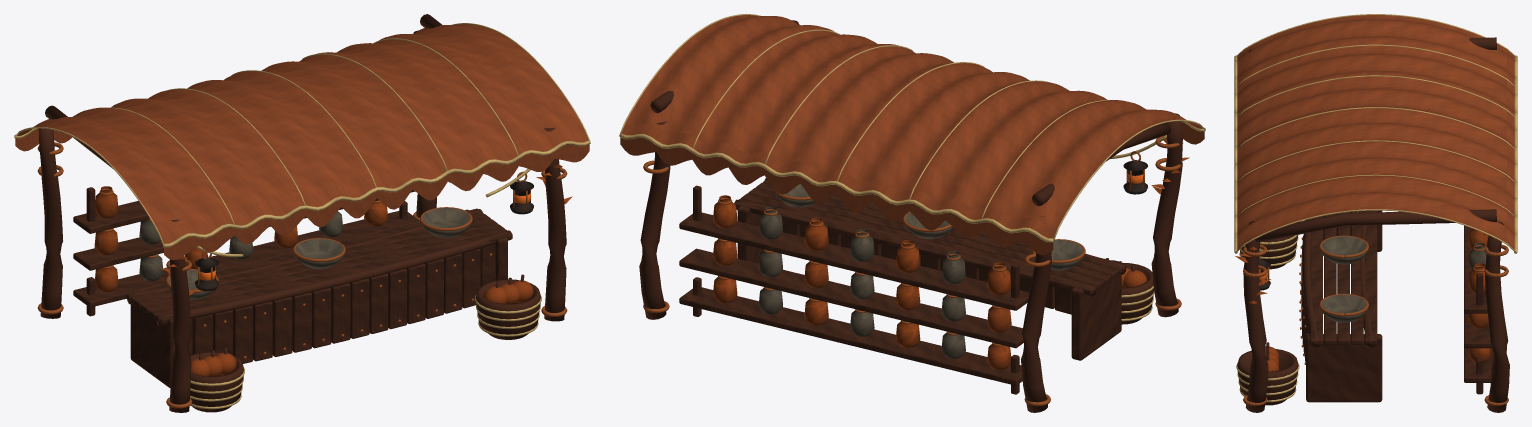
The model's file is Autumn_Shop.fbx.
3 views of the same model, side by side, from view 1: azimuth 30°, elevation 25°; view 2: azimuth 150°, elevation 25°; view 3: azimuth 270°, elevation 25° (orthographic). The views are drawn at different scales.
Parts seen in each view (by area): view 1: Autumn_Shop_Cloth, Autumn_Shop_Wood, Autumn_Shop_Ivory, Autumn_Shop_Accent, Autumn_Shop_Stone, Autumn_Shop_Metal, Autumn_Shop_Iron; view 2: Autumn_Shop_Cloth, Autumn_Shop_Wood, Autumn_Shop_Accent, Autumn_Shop_Stone, Autumn_Shop_Ivory, Autumn_Shop_Metal, Autumn_Shop_Iron; view 3: Autumn_Shop_Cloth, Autumn_Shop_Wood, Autumn_Shop_Ivory, Autumn_Shop_Stone, Autumn_Shop_Metal, Autumn_Shop_Accent.
Part boxes in pixels (left/top/right/bottom): Autumn_Shop_Cloth: left=15, top=24, right=589, bottom=260; Autumn_Shop_Wood: left=38, top=14, right=566, bottom=412; Autumn_Shop_Ivory: left=14, top=23, right=590, bottom=409; Autumn_Shop_Accent: left=94, top=164, right=572, bottom=376; Autumn_Shop_Stone: left=139, top=208, right=471, bottom=299; Autumn_Shop_Metal: left=37, top=142, right=567, bottom=408; Autumn_Shop_Iron: left=195, top=180, right=533, bottom=291; Autumn_Shop_Cloth: left=620, top=15, right=1204, bottom=255; Autumn_Shop_Wood: left=639, top=20, right=1182, bottom=412; Autumn_Shop_Accent: left=713, top=135, right=1189, bottom=369; Autumn_Shop_Stone: left=758, top=183, right=1084, bottom=358; Autumn_Shop_Ivory: left=619, top=14, right=1205, bottom=321; Autumn_Shop_Metal: left=643, top=136, right=1181, bottom=406; Autumn_Shop_Iron: left=1123, top=160, right=1147, bottom=194; Autumn_Shop_Cloth: left=1237, top=15, right=1514, bottom=249; Autumn_Shop_Wood: left=1237, top=37, right=1509, bottom=412; Autumn_Shop_Ivory: left=1234, top=14, right=1517, bottom=402; Autumn_Shop_Stone: left=1320, top=228, right=1486, bottom=322; Autumn_Shop_Metal: left=1243, top=229, right=1508, bottom=406; Autumn_Shop_Accent: left=1235, top=228, right=1491, bottom=371.
Bounding box in the file's own units: 10.93 × 5.79 × 6.69.
